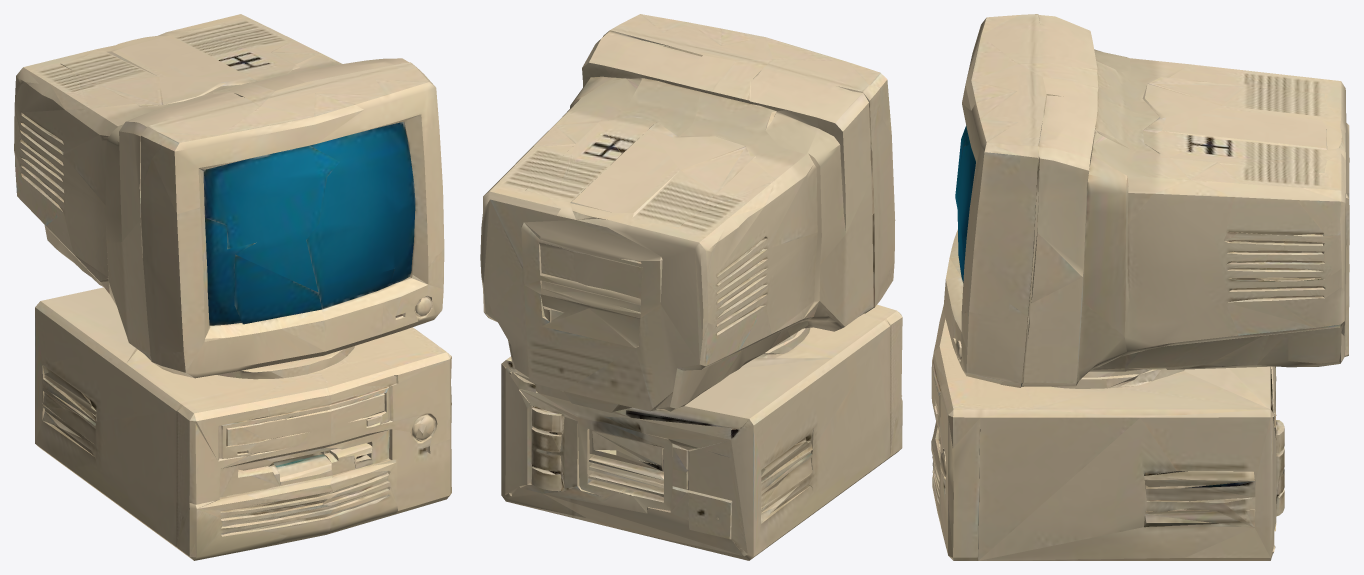
The model's file is crtpc.glb.
3 renders of one model, left to right at view 1: azimuth 30°, elevation 25°; view 2: azimuth 150°, elevation 25°; view 3: azimuth 270°, elevation 25°, orthographic. The views are drawn at different scales.
Bounding box in the file's own units: 1.36 × 1.89 × 1.71.
1 material, 1 textured.
